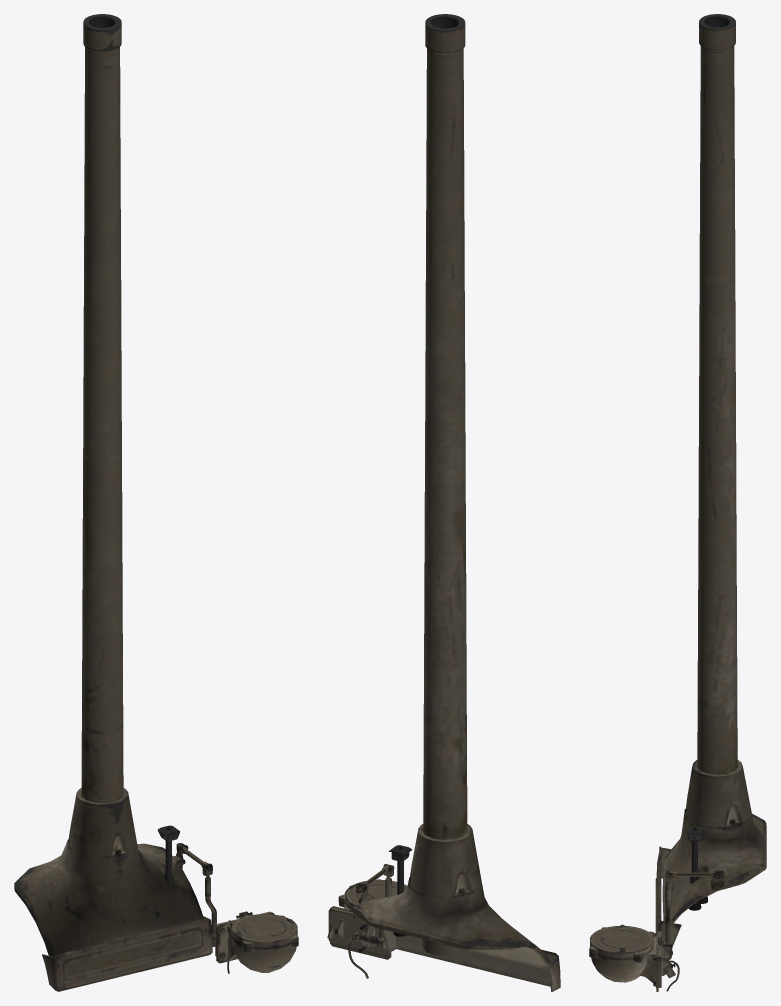
File: Gun_01.glb
The picture shows the model from 3 angles, left to right: view 1: azimuth 30°, elevation 25°; view 2: azimuth 150°, elevation 25°; view 3: azimuth 270°, elevation 25°; orthographic projection. The views are drawn at different scales.
Parts seen in each view (by area): view 1: set_0_group_0; view 2: set_0_group_0; view 3: set_0_group_0.
Part boxes in pixels (left/top/right/bottom): set_0_group_0: left=14, top=14, right=298, bottom=991; set_0_group_0: left=327, top=14, right=560, bottom=991; set_0_group_0: left=589, top=14, right=766, bottom=991.
Size of the model in its own units: 1.3 by 5.37 by 0.9352.
1 material, 1 textured.
